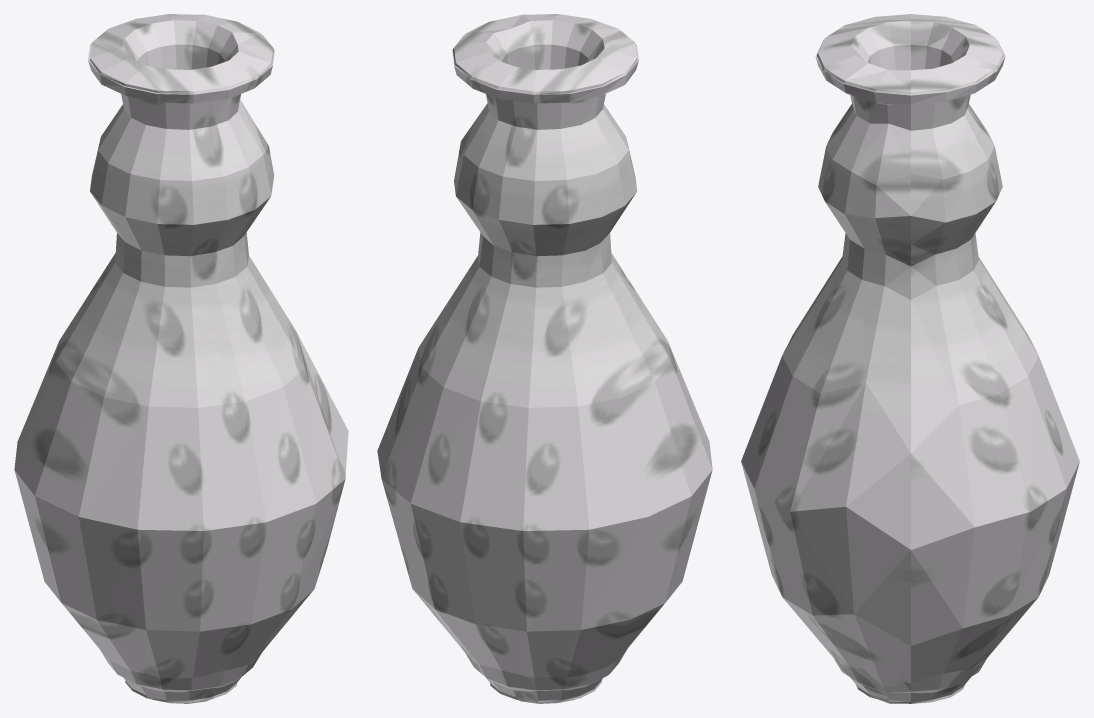
The model's file is VasePak.glb.
3 renders of one model, left to right at view 1: azimuth 30°, elevation 25°; view 2: azimuth 150°, elevation 25°; view 3: azimuth 270°, elevation 25°, orthographic.
Parts seen in each view (by area): view 1: VasePak; view 2: VasePak; view 3: VasePak.
Part boxes in pixels (x1,y1,x2,y2): VasePak: (14, 14, 348, 703); VasePak: (377, 14, 712, 703); VasePak: (741, 14, 1079, 703).
Size of the model in its own units: 69.41 by 145 by 69.53.
Materials: 1 (1 with a texture image).
